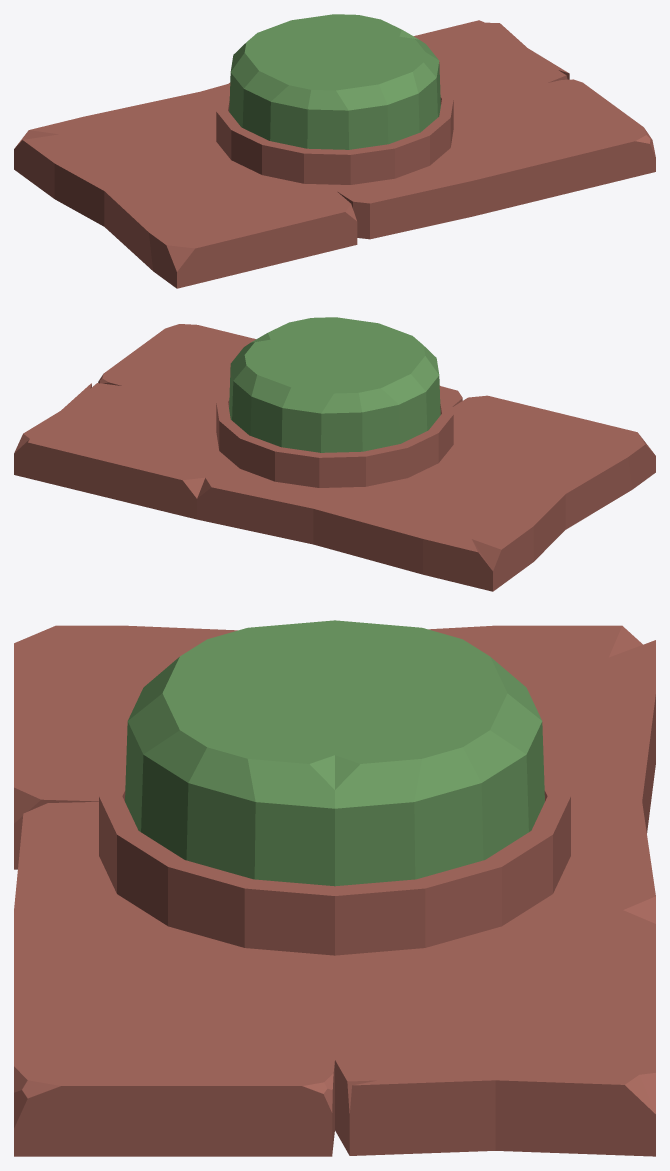
File: Button2.fbx
3 renders of one model, top to bottom at view 1: azimuth 30°, elevation 25°; view 2: azimuth 150°, elevation 25°; view 3: azimuth 270°, elevation 25°, orthographic. The views are drawn at different scales.
Visible parts, largest first — view 1: TempatButton2, PressButton2; view 2: TempatButton2, PressButton2; view 3: TempatButton2, PressButton2.
Boxes of the visible parts, x1,y1,x2,y2 form: TempatButton2: [14, 20, 655, 288]; PressButton2: [229, 14, 440, 149]; TempatButton2: [14, 324, 655, 591]; PressButton2: [229, 317, 440, 452]; TempatButton2: [14, 625, 655, 1156]; PressButton2: [125, 620, 544, 886].
Bounding box in the file's own units: 28 × 6.61 × 16.5.
